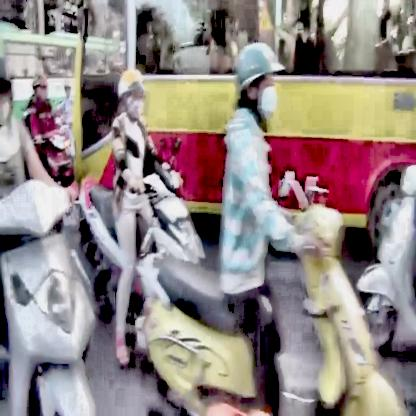wear: (234, 40, 288, 122)
